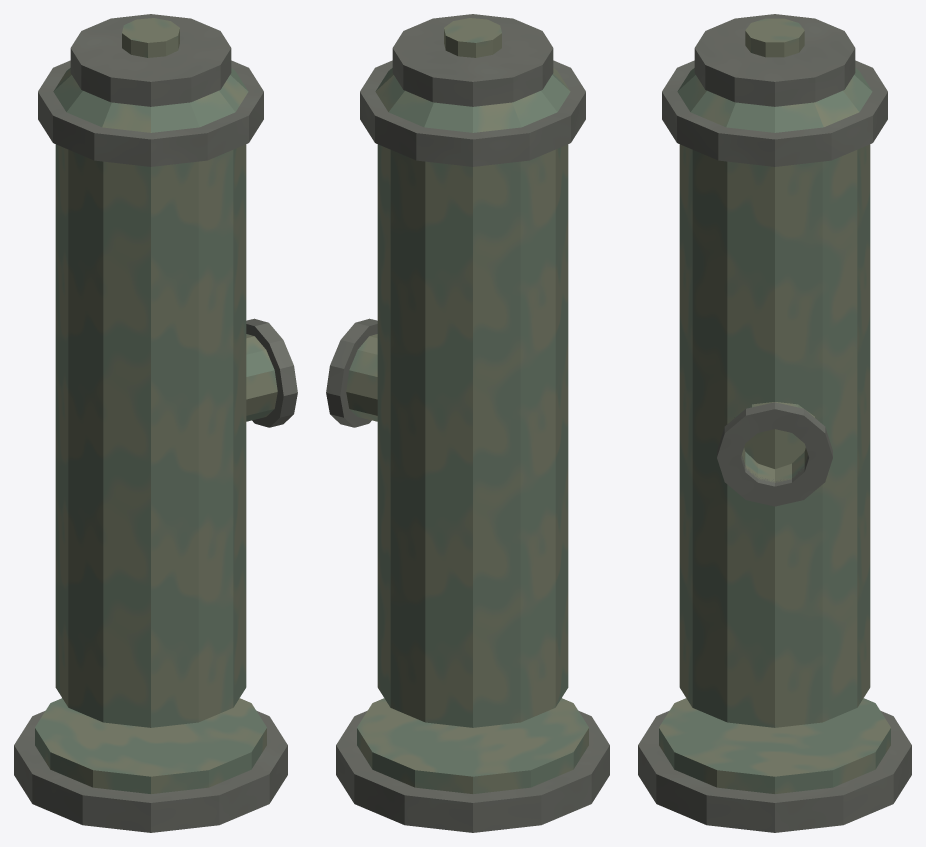
Rendered from WarrensC_PWC01_PumpTowerBody_Mars_SM.fbx.
3 views of the same model, side by side, from view 1: azimuth 30°, elevation 25°; view 2: azimuth 150°, elevation 25°; view 3: azimuth 270°, elevation 25° (orthographic).
Parts seen in each view (by area): view 1: WarrensC_PWC01_PumpTowerBody_Mars_SM.001; view 2: WarrensC_PWC01_PumpTowerBody_Mars_SM.001; view 3: WarrensC_PWC01_PumpTowerBody_Mars_SM.001.
Boxes of the visible parts, <box> form: WarrensC_PWC01_PumpTowerBody_Mars_SM.001: <box>14,14,297,832</box>; WarrensC_PWC01_PumpTowerBody_Mars_SM.001: <box>326,14,609,832</box>; WarrensC_PWC01_PumpTowerBody_Mars_SM.001: <box>638,14,911,832</box>.
Bounding box in the file's own units: 200 × 200 × 600.
